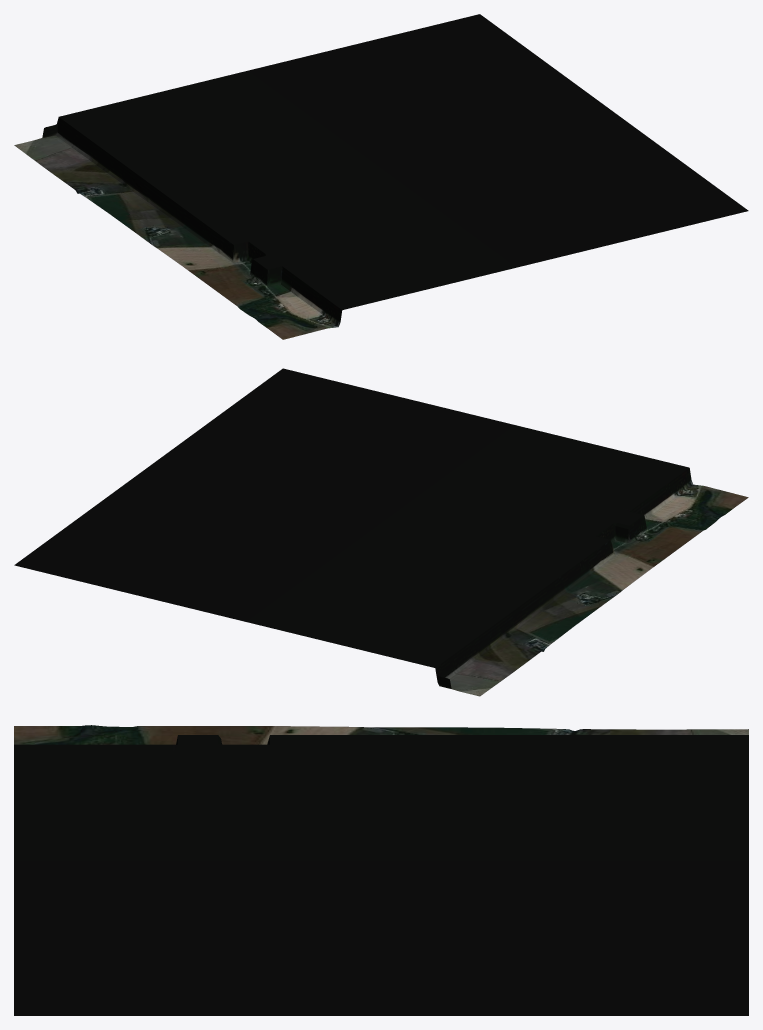
The model's file is map_10_258_432.dae.
The picture shows the model from 3 angles, top to bottom: view 1: azimuth 30°, elevation 25°; view 2: azimuth 150°, elevation 25°; view 3: azimuth 270°, elevation 25°; orthographic projection. The views are drawn at different scales.
Visible parts, largest first — view 1: Ter0; view 2: Ter0; view 3: Ter0.
Part boxes in pixels (<box>): Ter0: <box>14,14,748,339</box>; Ter0: <box>14,368,748,696</box>; Ter0: <box>14,725,748,1015</box>.
Bounding box in the file's own units: 2044 × 2044 × 82.3.
Materials: 4 (4 with a texture image).
